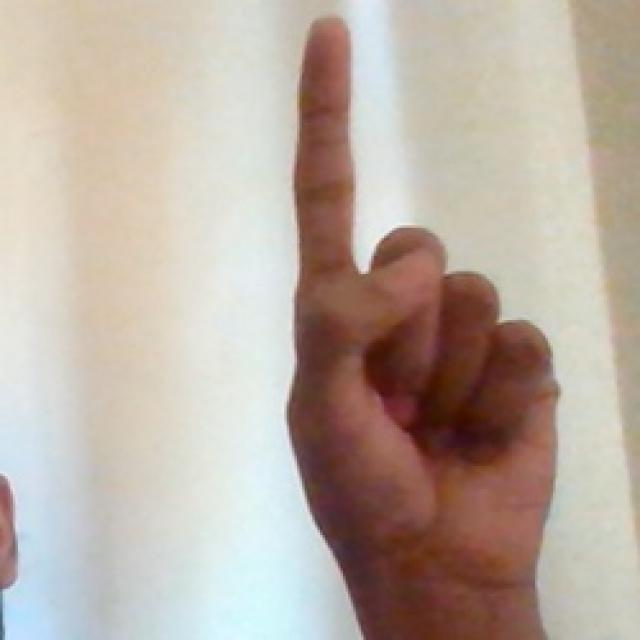Numeric-1: (290, 11, 553, 584)
